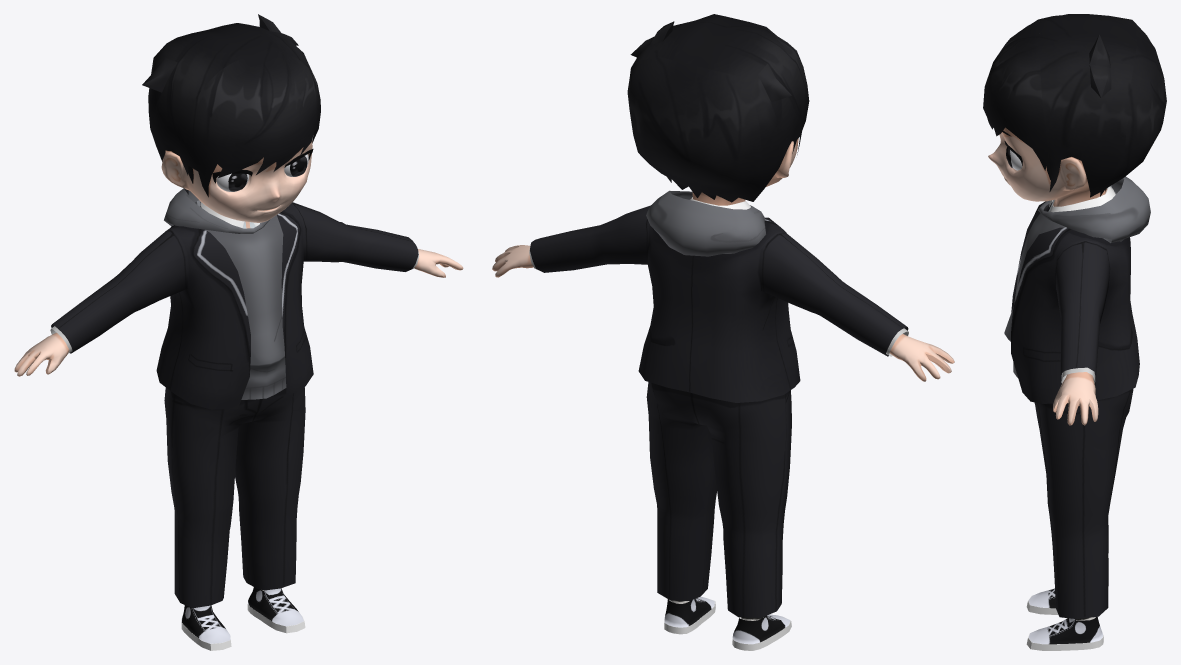
The picture shows the model from 3 angles, left to right: view 1: azimuth 30°, elevation 25°; view 2: azimuth 150°, elevation 25°; view 3: azimuth 270°, elevation 25°; orthographic projection. The views are drawn at different scales.
Visible parts, largest first — view 1: clothes; view 2: clothes; view 3: clothes.
Part boxes in pixels (x1,y1,x2,y2): clothes: (14, 14, 463, 650); clothes: (492, 14, 954, 650); clothes: (983, 14, 1166, 650).
Size of the model in its own units: 130 by 166 by 45.43.
